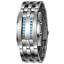watch: (13, 8, 43, 49)
